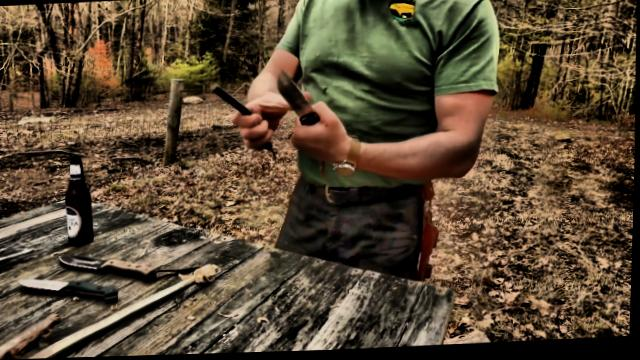knife: (270, 61, 344, 162)
